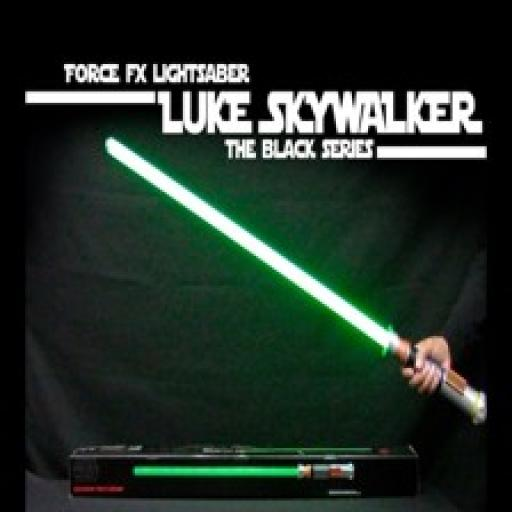lightsaber: (102, 136, 492, 426), (134, 464, 359, 482)
